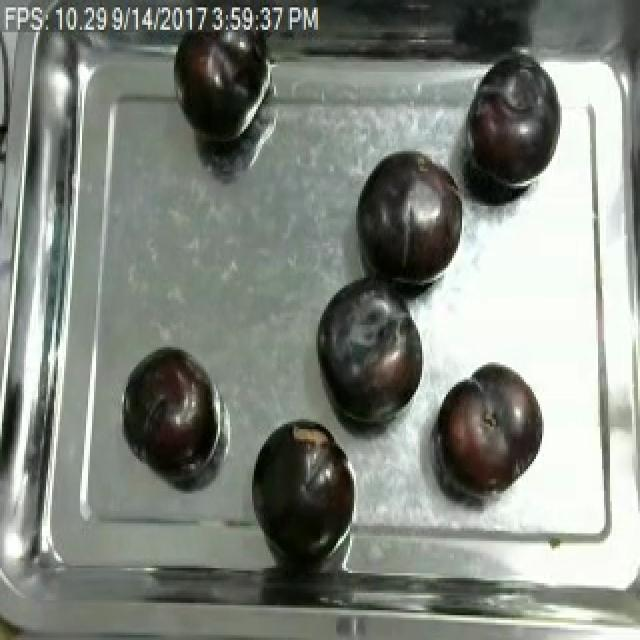Fruit: (346, 142, 470, 300), (312, 273, 428, 432), (430, 359, 546, 498), (458, 52, 566, 201), (250, 414, 360, 553), (120, 342, 222, 474)
